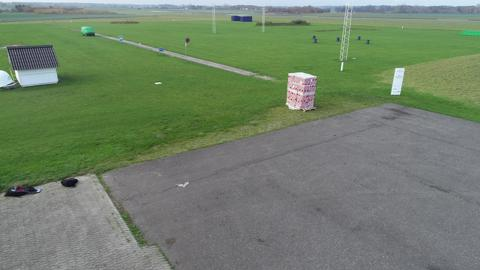RockwoolPallet: (286, 72, 319, 111)
